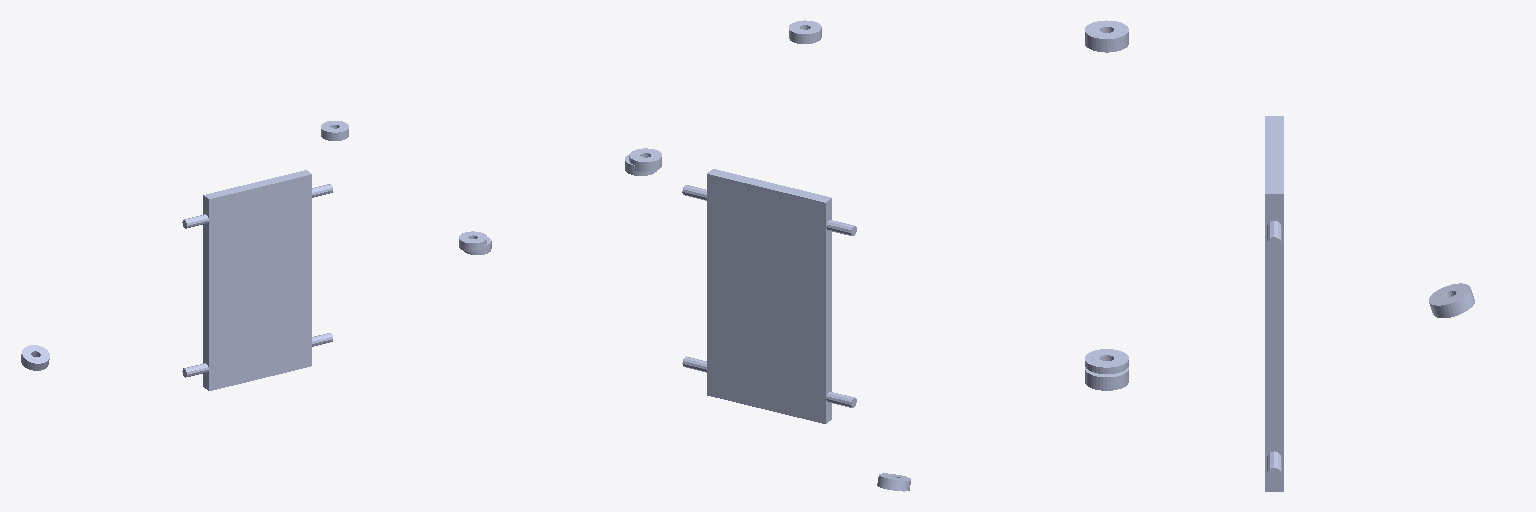
robot.urdf — ros_test_assembly:
<?xml version="1.0" encoding="utf-8"?>
<!-- This URDF was automatically created by SolidWorks to URDF Exporter! Originally created by [author] ([email redacted]) 
     Commit Version: 1.6.0-1-g15f4949  Build Version: 1.6.7594.29634
     For more information, please see http://wiki.ros.org/sw_urdf_exporter -->
<robot
  name="ros_test_assembly">
  <link
    name="base_link">
    <inertial>
      <origin
        xyz="-0.25 0.0249831852972345 -0.445"
        rpy="0 0 0" />
      <mass
        value="22.7777875658031" />
      <inertia
        ixx="1.53624657736055"
        ixy="5.63987155601472E-19"
        ixz="6.70470623465036E-17"
        iyy="2.04388054287898"
        iyz="7.25513089254054E-18"
        izz="0.517010899353609" />
    </inertial>
    <visual>
      <origin
        xyz="0 0 0"
        rpy="0 0 0" />
      <geometry>
        <mesh
          filename="package://ros_test_assembly/meshes/base_link.STL" />
      </geometry>
      <material
        name="">
        <color
          rgba="0.792156862745098 0.819607843137255 0.933333333333333 1" />
      </material>
    </visual>
    <collision>
      <origin
        xyz="0 0 0"
        rpy="0 0 0" />
      <geometry>
        <mesh
          filename="package://ros_test_assembly/meshes/base_link.STL" />
      </geometry>
    </collision>
  </link>
  <link
    name="FR_wheel">
    <inertial>
      <origin
        xyz="-5.55111512312578E-17 0 0"
        rpy="0 0 0" />
      <mass
        value="0.402123859659494" />
      <inertia
        ixx="0.00045574037428076"
        ixy="-7.67877008722872E-38"
        ixz="-1.17549435082229E-36"
        iyy="0.00045574037428076"
        iyz="-1.16563729924132E-36"
        izz="0.000804247719318988" />
    </inertial>
    <visual>
      <origin
        xyz="0 0 0"
        rpy="0 0 0" />
      <geometry>
        <mesh
          filename="package://ros_test_assembly/meshes/FR_wheel.STL" />
      </geometry>
      <material
        name="">
        <color
          rgba="0.792156862745098 0.819607843137255 0.933333333333333 1" />
      </material>
    </visual>
    <collision>
      <origin
        xyz="0 0 0"
        rpy="0 0 0" />
      <geometry>
        <mesh
          filename="package://ros_test_assembly/meshes/FR_wheel.STL" />
      </geometry>
    </collision>
  </link>
  <joint
    name="FR_wheel_contd"
    type="continuous">
    <origin
      xyz="-0.585 0.0242743259743321 -0.1"
      rpy="3.14159265358979 -1.5707963267949 0" />
    <parent
      link="base_link" />
    <child
      link="FR_wheel" />
    <axis
      xyz="0 0 1" />
    <limit
      upper="1000"
      effort="0"
      velocity="0" />
  </joint>
  <link
    name="FL_wheel">
    <inertial>
      <origin
        xyz="0 0 0"
        rpy="0 0 0" />
      <mass
        value="0.402123859659493" />
      <inertia
        ixx="0.000455740374280759"
        ixy="-7.67877008722871E-38"
        ixz="9.25180260739775E-37"
        iyy="0.000455740374280759"
        iyz="-1.16563729924132E-36"
        izz="0.000804247719318987" />
    </inertial>
    <visual>
      <origin
        xyz="0 0 0"
        rpy="0 0 0" />
      <geometry>
        <mesh
          filename="package://ros_test_assembly/meshes/FL_wheel.STL" />
      </geometry>
      <material
        name="">
        <color
          rgba="0.792156862745098 0.819607843137255 0.933333333333333 1" />
      </material>
    </visual>
    <collision>
      <origin
        xyz="0 0 0"
        rpy="0 0 0" />
      <geometry>
        <mesh
          filename="package://ros_test_assembly/meshes/FL_wheel.STL" />
      </geometry>
    </collision>
  </link>
  <joint
    name="FL_wheel_cont"
    type="continuous">
    <origin
      xyz="0.085 0.0242743259743321 -0.1"
      rpy="3.14159265358979 -1.5707963267949 0" />
    <parent
      link="base_link" />
    <child
      link="FL_wheel" />
    <axis
      xyz="0 0 1" />
    <limit
      upper="1000"
      effort="0"
      velocity="0" />
  </joint>
  <link
    name="RR_wheel">
    <inertial>
      <origin
        xyz="0 0 0"
        rpy="0 0 0" />
      <mass
        value="0.402123859659494" />
      <inertia
        ixx="0.00045574037428076"
        ixy="-7.67877008722872E-38"
        ixz="-1.17549435082229E-36"
        iyy="0.00045574037428076"
        iyz="-1.16563729924132E-36"
        izz="0.000804247719318988" />
    </inertial>
    <visual>
      <origin
        xyz="0 0 0"
        rpy="0 0 0" />
      <geometry>
        <mesh
          filename="package://ros_test_assembly/meshes/RR_wheel.STL" />
      </geometry>
      <material
        name="">
        <color
          rgba="0.792156862745098 0.819607843137255 0.933333333333333 1" />
      </material>
    </visual>
    <collision>
      <origin
        xyz="0 0 0"
        rpy="0 0 0" />
      <geometry>
        <mesh
          filename="package://ros_test_assembly/meshes/RR_wheel.STL" />
      </geometry>
    </collision>
  </link>
  <joint
    name="RR_wheel_contd"
    type="continuous">
    <origin
      xyz="-0.585 0.0242743259743321 -0.79"
      rpy="3.14159265358979 -1.5707963267949 0" />
    <parent
      link="base_link" />
    <child
      link="RR_wheel" />
    <axis
      xyz="0 0 1" />
    <limit
      upper="1000"
      effort="0"
      velocity="0" />
  </joint>
  <link
    name="RL_wheel">
    <inertial>
      <origin
        xyz="0 0 0"
        rpy="0 0 0" />
      <mass
        value="0.402123859659493" />
      <inertia
        ixx="0.000455740374280759"
        ixy="4.06575814682064E-20"
        ixz="-8.72594417230385E-21"
        iyy="0.000455740374280759"
        iyz="1.40778005605941E-21"
        izz="0.000804247719318986" />
    </inertial>
    <visual>
      <origin
        xyz="0 0 0"
        rpy="0 0 0" />
      <geometry>
        <mesh
          filename="package://ros_test_assembly/meshes/RL_wheel.STL" />
      </geometry>
      <material
        name="">
        <color
          rgba="0.792156862745098 0.819607843137255 0.933333333333333 1" />
      </material>
    </visual>
    <collision>
      <origin
        xyz="0 0 0"
        rpy="0 0 0" />
      <geometry>
        <mesh
          filename="package://ros_test_assembly/meshes/RL_wheel.STL" />
      </geometry>
    </collision>
  </link>
  <joint
    name="RF_wheel_contd"
    type="continuous">
    <origin
      xyz="0.085 0.0242743259743321 -0.79"
      rpy="1.5707963267949 -1.26710313498355 -1.5707963267949" />
    <parent
      link="base_link" />
    <child
      link="RL_wheel" />
    <axis
      xyz="0 0 1" />
    <limit
      upper="1000"
      effort="0"
      velocity="0" />
  </joint>
</robot>

--- Render facts (derived) ---
Views: 3 orthographic renders of the robot side by side, from view 1: azimuth 30°, elevation 25°; view 2: azimuth 150°, elevation 25°; view 3: azimuth 270°, elevation 25°.
Model ros_test_assembly with 5 links and 4 joints (4 continuous), rooted at base_link, posed every joint at zero.
Links seen in each view (by area): view 1: base_link, RL_wheel; view 2: base_link, FR_wheel, FL_wheel; view 3: base_link, FR_wheel, RL_wheel, FL_wheel, RR_wheel.
Link boxes in pixels (box(x1,y1,x2,y2)): base_link: box(182, 170, 332, 390); RL_wheel: box(21, 345, 49, 370); base_link: box(682, 169, 856, 423); FR_wheel: box(789, 20, 821, 43); FL_wheel: box(629, 148, 661, 171); base_link: box(1265, 116, 1283, 491); FR_wheel: box(1085, 20, 1128, 52); RL_wheel: box(1429, 283, 1474, 317); FL_wheel: box(1085, 349, 1128, 373); RR_wheel: box(1085, 367, 1128, 390).
Size in the robot's own frame: 1.72 by 1.06 by 1.32 metres.
5 mesh visuals loaded from 5 distinct referenced files (5 binary STL).